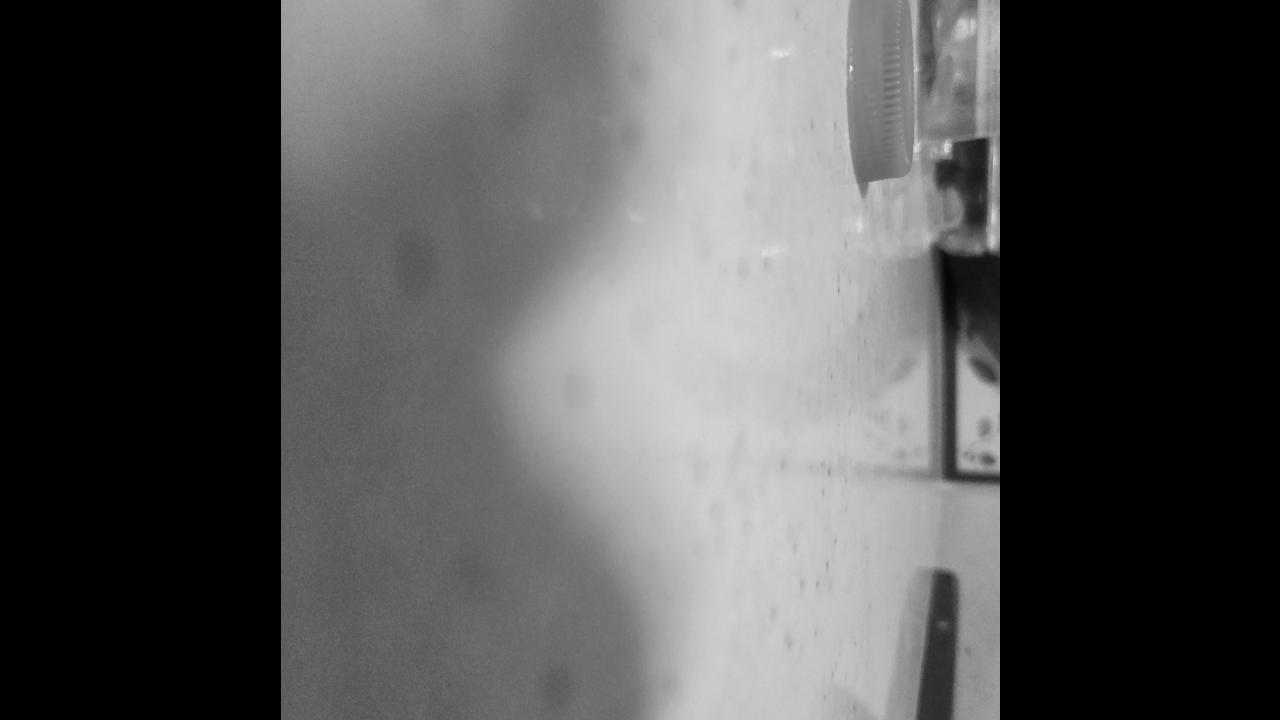bottle_cap: (845, 0, 916, 186)
